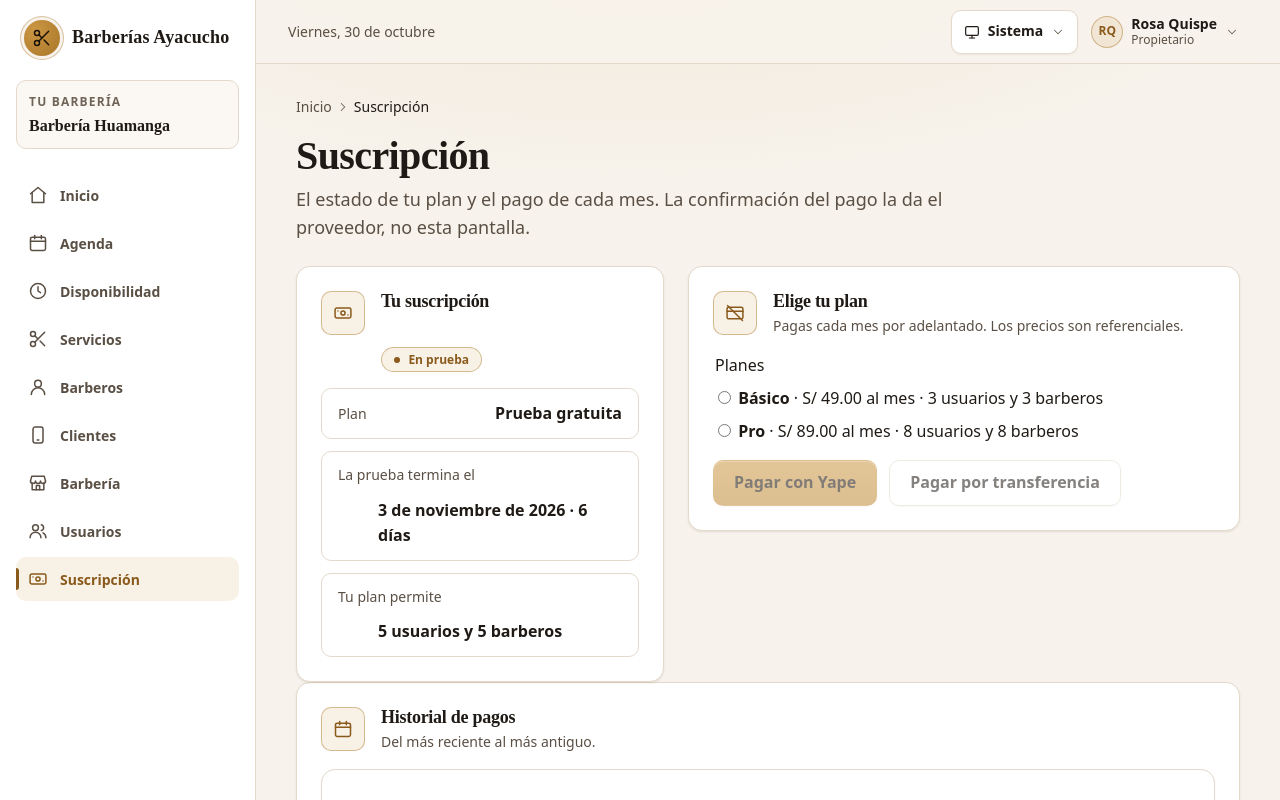
Test: Suscripción (/app/suscripcion) › con la pasarela caída muestra el mensaje con la opción de transferencia
This screenshot has width=1280, height=800.
Click the radio button labelled "Básico · S/ 49.00 al mes · 3 usuarios y 3 barberos" at [724, 397], box [718,391,731,404]
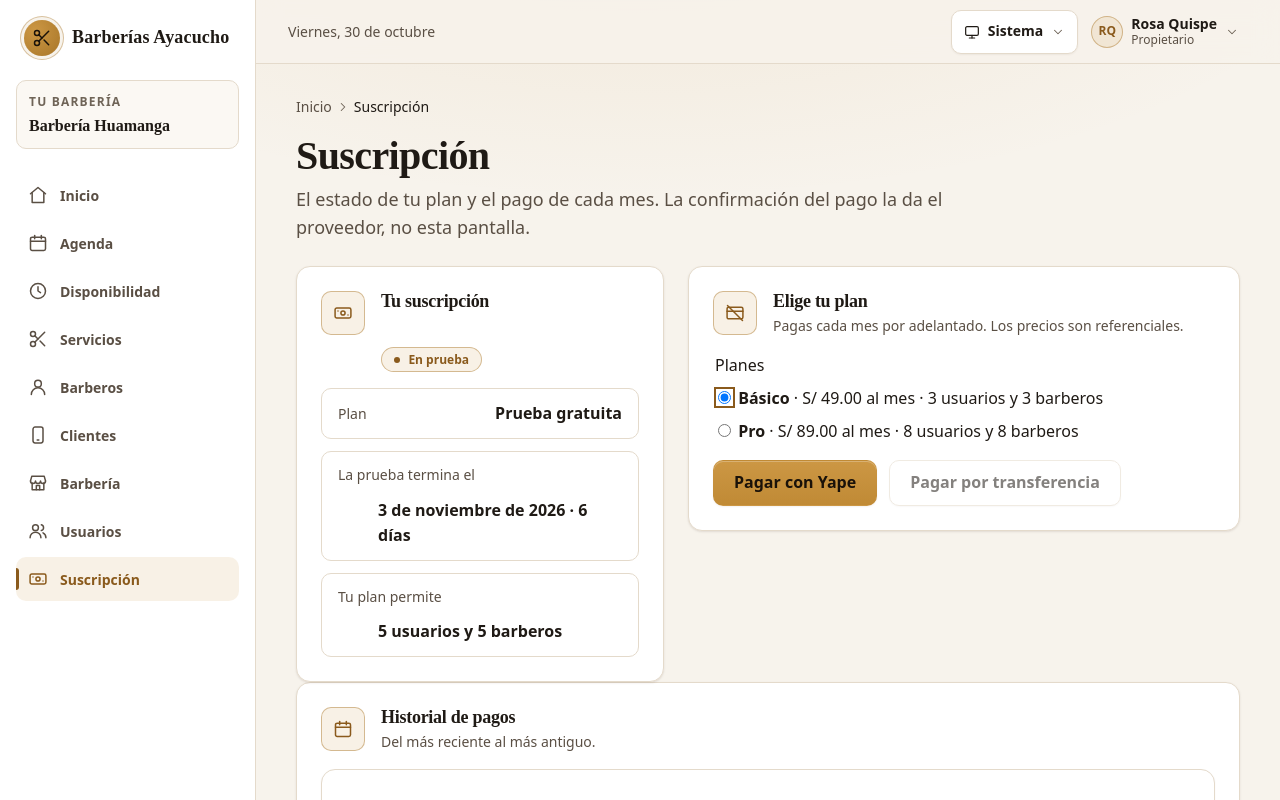
Click the button "Pagar con Yape" at [795, 482], box [713,460,877,506]
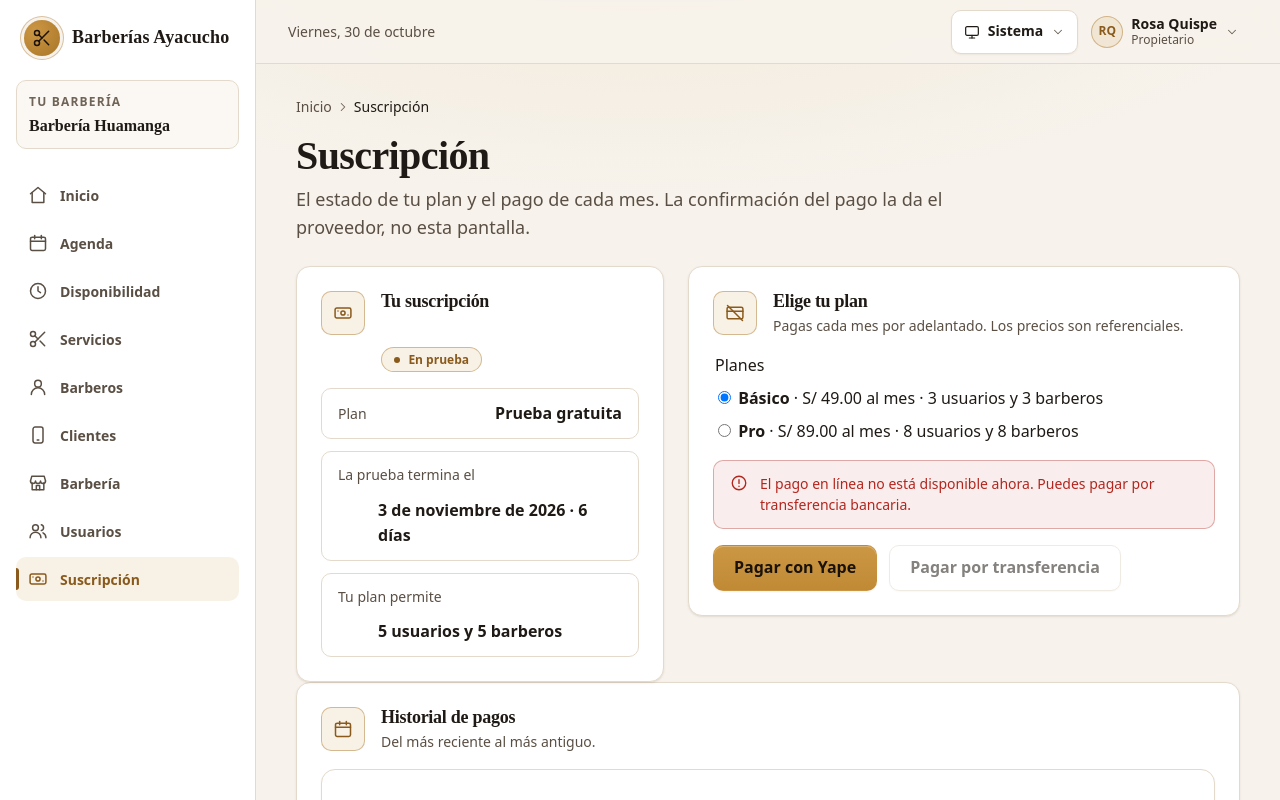
Expected: the message shows "transferencia bancaria", [760,474,1154,514]
